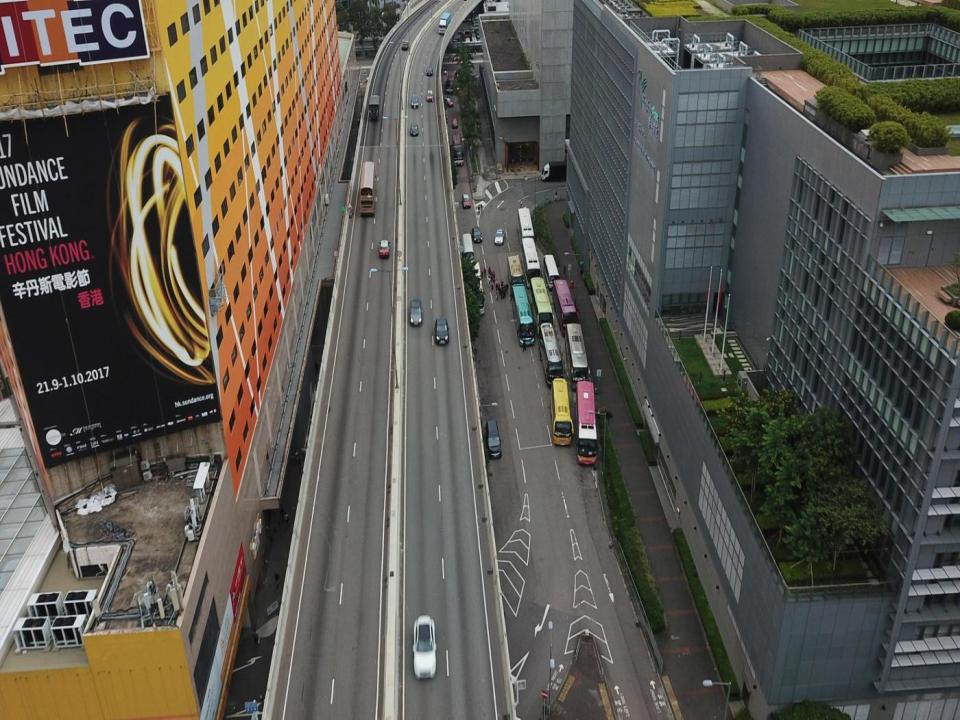bus: (576, 380, 599, 467), (549, 374, 574, 446), (537, 322, 564, 386), (564, 321, 590, 387), (552, 277, 580, 338), (529, 274, 555, 337), (511, 282, 535, 348), (462, 259, 488, 318), (519, 237, 542, 288), (358, 161, 378, 217), (516, 206, 535, 252), (507, 252, 525, 295), (543, 253, 559, 292), (461, 232, 476, 266), (451, 131, 464, 167), (444, 69, 456, 94)
car: (411, 613, 439, 679), (484, 416, 501, 462), (432, 314, 451, 346), (408, 297, 424, 329), (378, 238, 393, 260), (494, 226, 506, 248), (470, 225, 481, 243), (409, 122, 421, 138), (460, 191, 471, 207), (409, 93, 419, 109), (442, 95, 454, 108), (425, 88, 434, 103), (424, 64, 432, 77), (402, 38, 410, 51), (451, 116, 458, 129)
truck: (540, 160, 577, 185), (368, 92, 381, 122), (438, 12, 452, 35)
